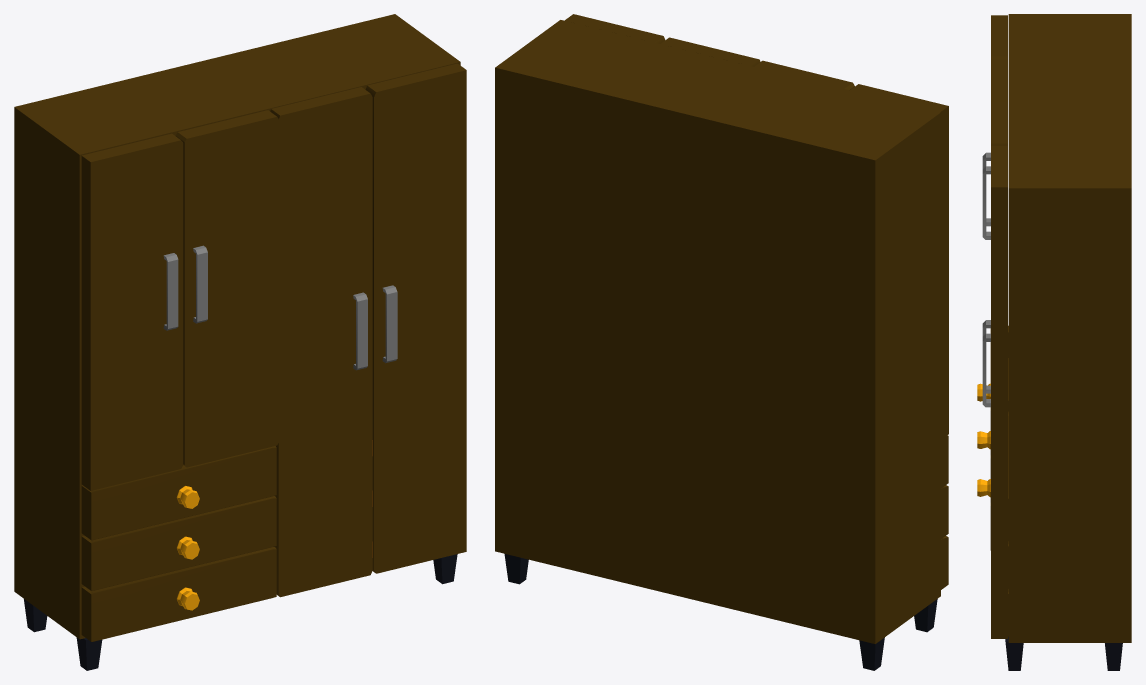
The model's file is GuardaRoupa.fbx.
3 views of the same model, side by side, from view 1: azimuth 30°, elevation 25°; view 2: azimuth 150°, elevation 25°; view 3: azimuth 270°, elevation 25° (orthographic). The views are drawn at different scales.
Parts seen in each view (by area): view 1: Armario; view 2: Armario; view 3: Armario.
Boxes of the visible parts, bbox=[...] form: Armario: bbox=[14, 14, 466, 670]; Armario: bbox=[495, 14, 948, 670]; Armario: bbox=[977, 14, 1131, 670].
Size of the model in its own units: 124 by 161 by 46.36.
Materials: 1 (1 with a texture image).
